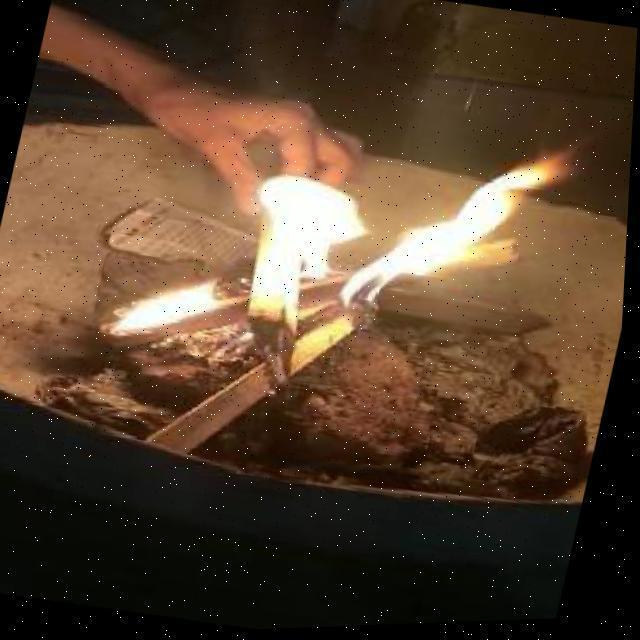fire: (248, 157, 568, 299), (103, 277, 249, 344)
